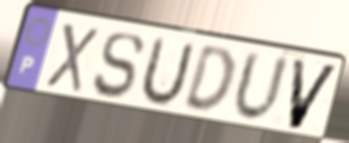D: (180, 45, 237, 117)
S: (91, 32, 147, 101)
U: (229, 47, 293, 126), (135, 34, 198, 109)
V: (287, 56, 342, 133)
X: (42, 20, 101, 96)
